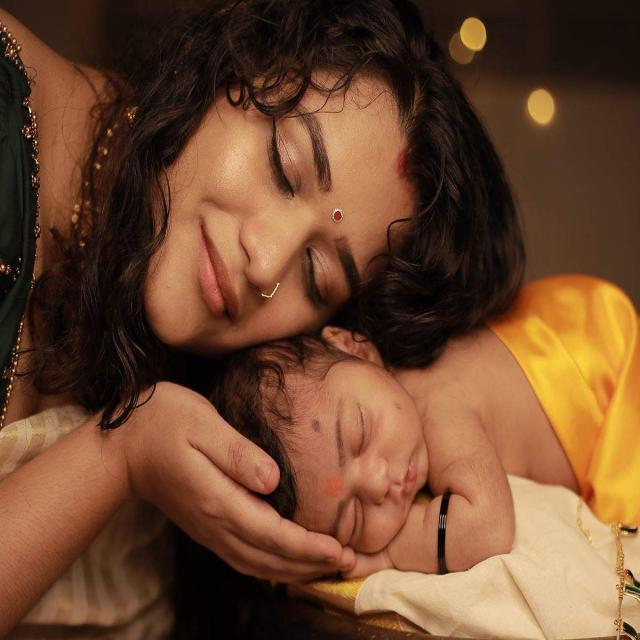non-dog: (0, 1, 522, 634), (192, 274, 640, 577)
